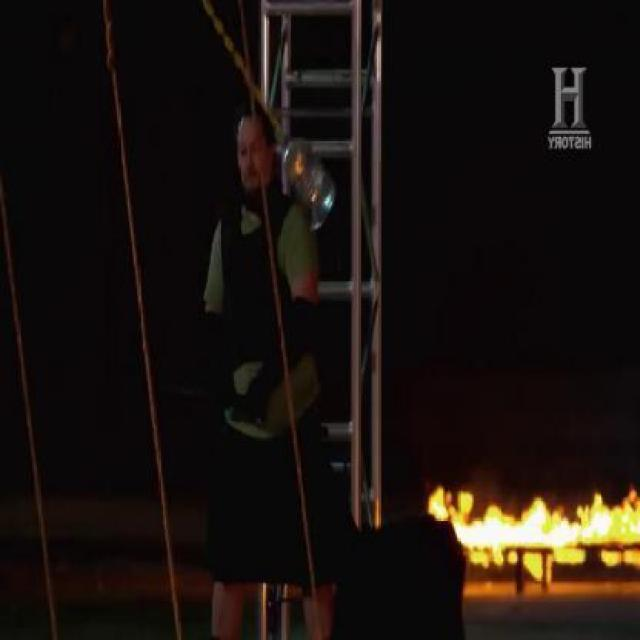Fire: (456, 501, 639, 548), (468, 550, 519, 566), (428, 488, 450, 522), (522, 552, 542, 577), (556, 549, 586, 558)
